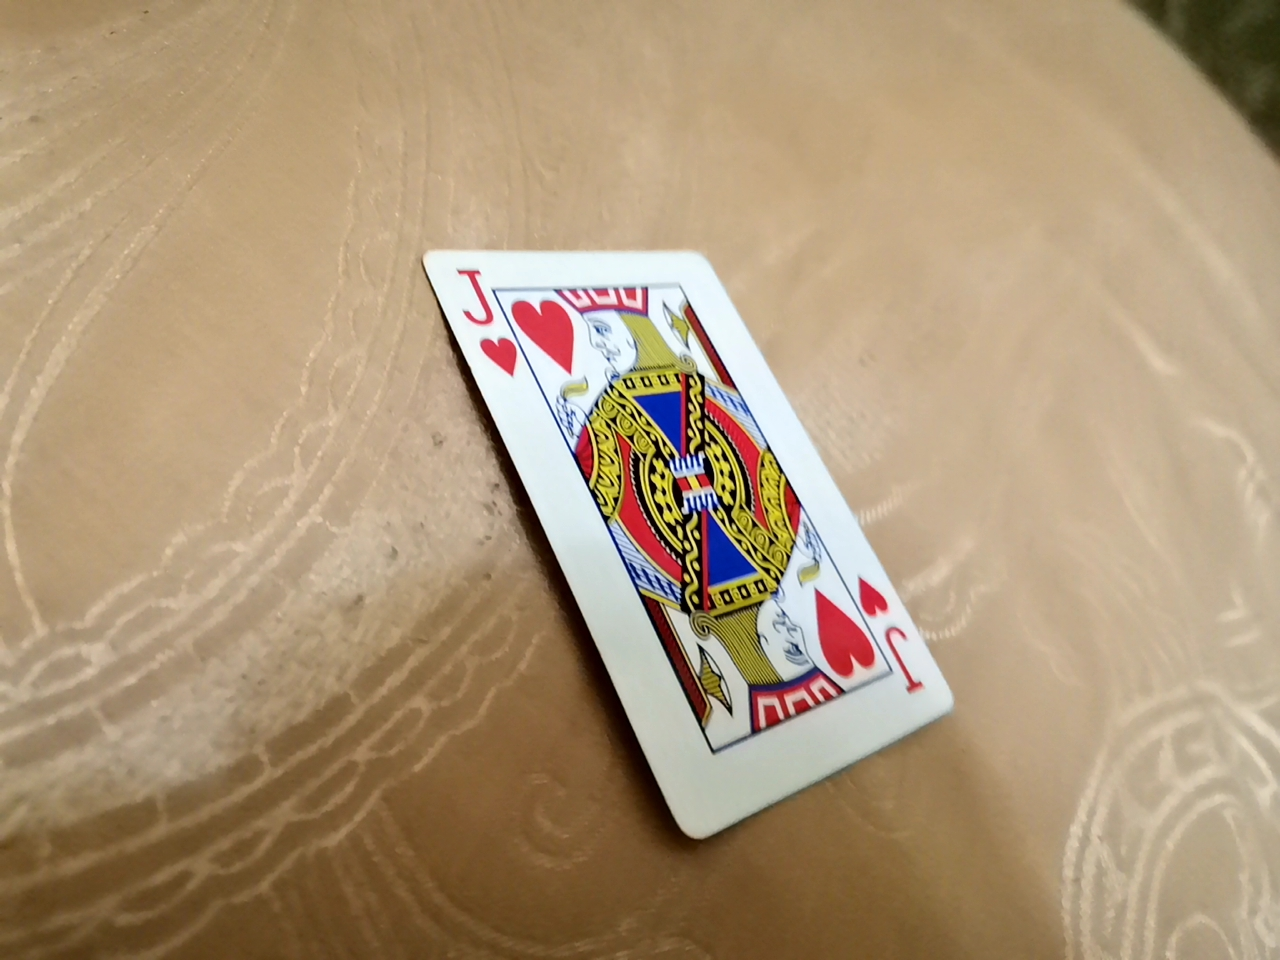hx j: (393, 214, 961, 828)
